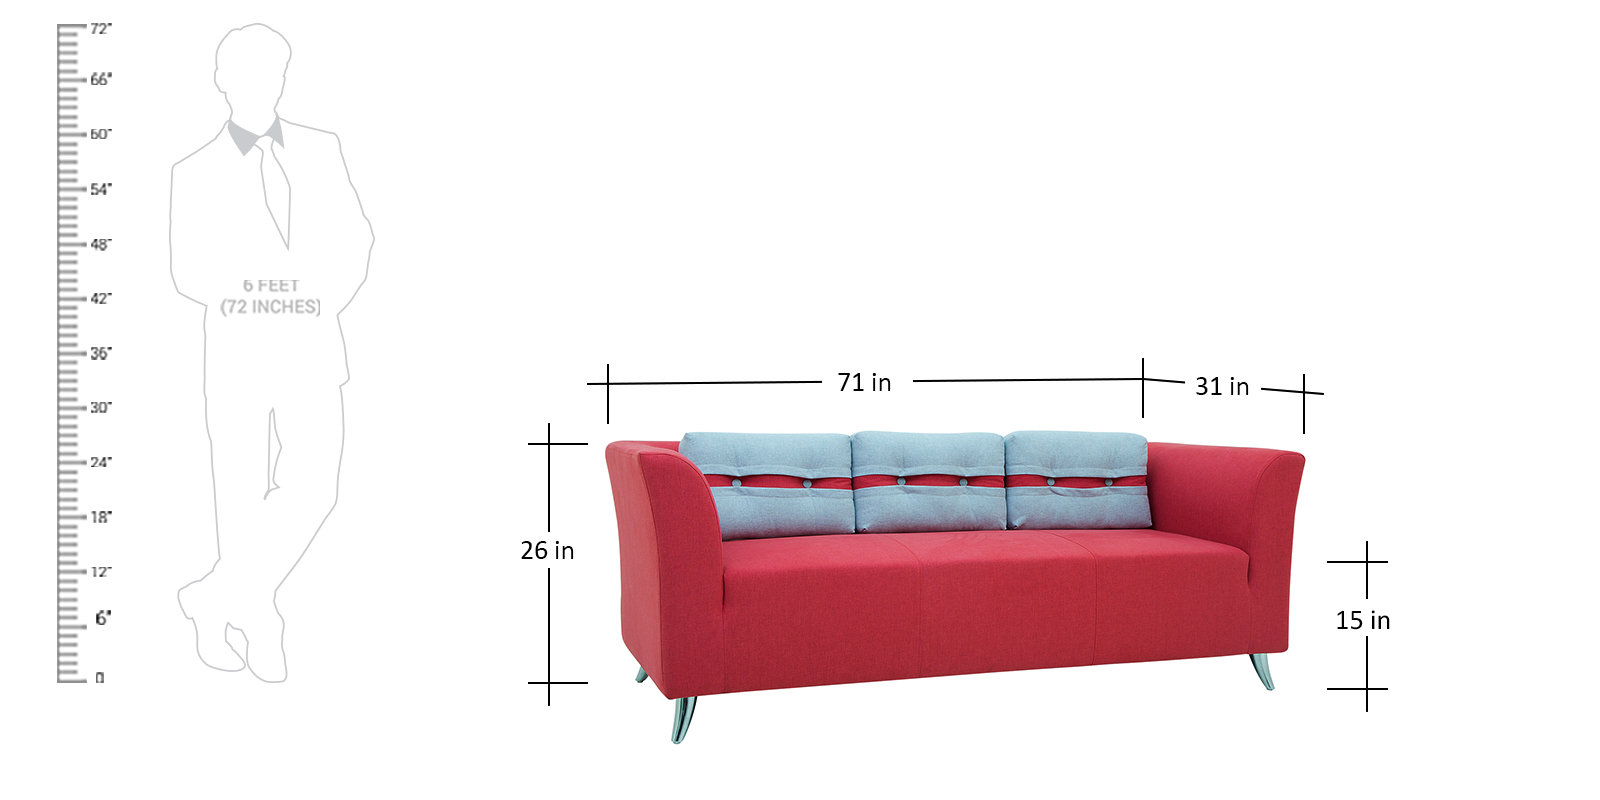Iowa Three Seater Sofa in Crimson Red Colour by Furnitech: (589, 419, 1298, 750)
